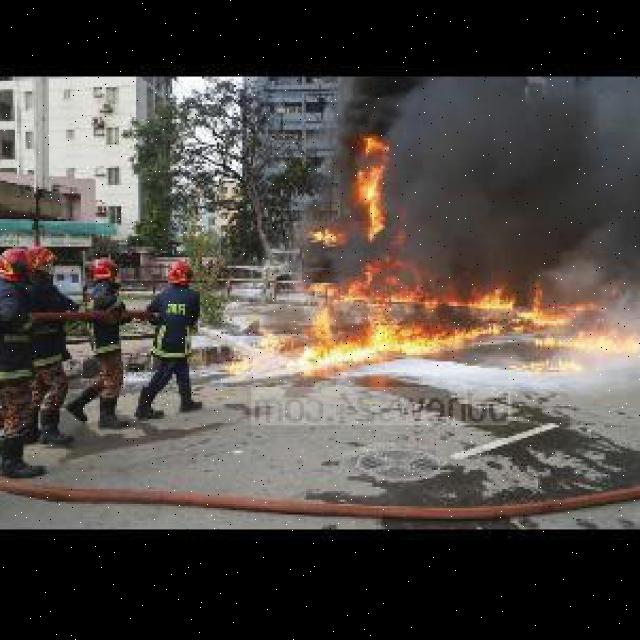fire: (221, 278, 640, 378), (355, 130, 389, 236)
smoke: (383, 76, 640, 278)
